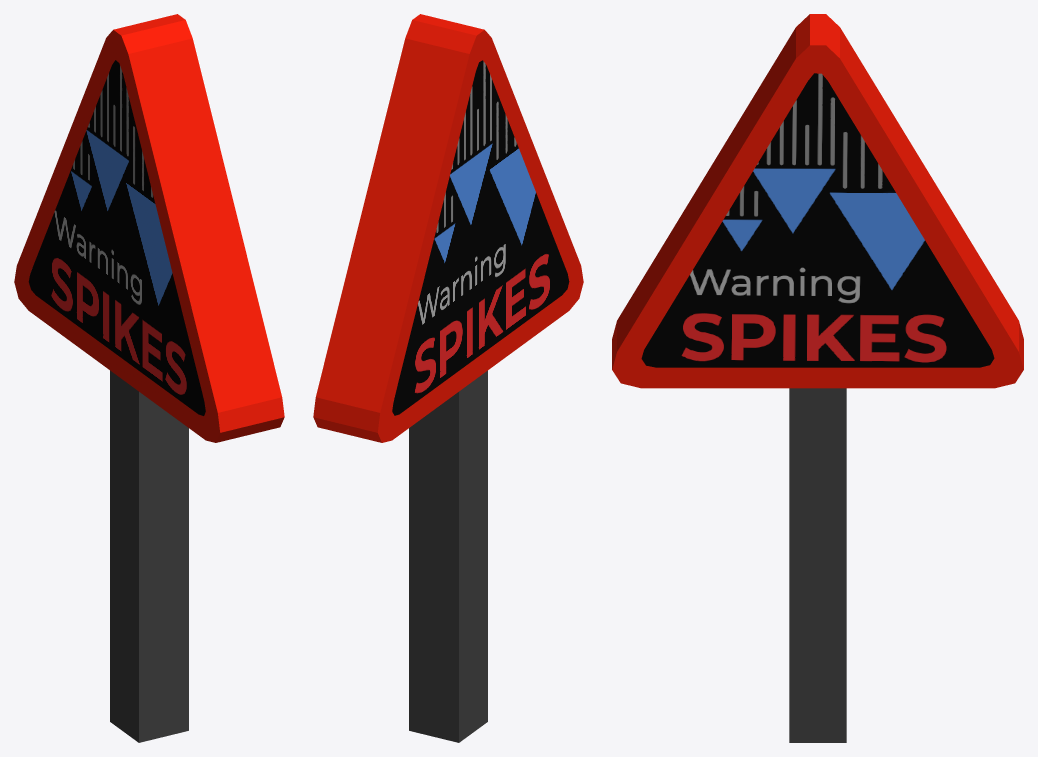
The model's file is Spikes Danger Sign.fbx.
The picture shows the model from 3 angles, left to right: view 1: azimuth 30°, elevation 25°; view 2: azimuth 150°, elevation 25°; view 3: azimuth 270°, elevation 25°; orthographic projection.
Parts seen in each view (by area): view 1: Cube; view 2: Cube; view 3: Cube.
Boxes of the visible parts, x1=… form: Cube: x1=14, y1=14, x2=284, y2=742; Cube: x1=313, y1=14, x2=583, y2=742; Cube: x1=612, y1=14, x2=1023, y2=742.
Size of the model in its own units: 113 by 20.45 by 213.
